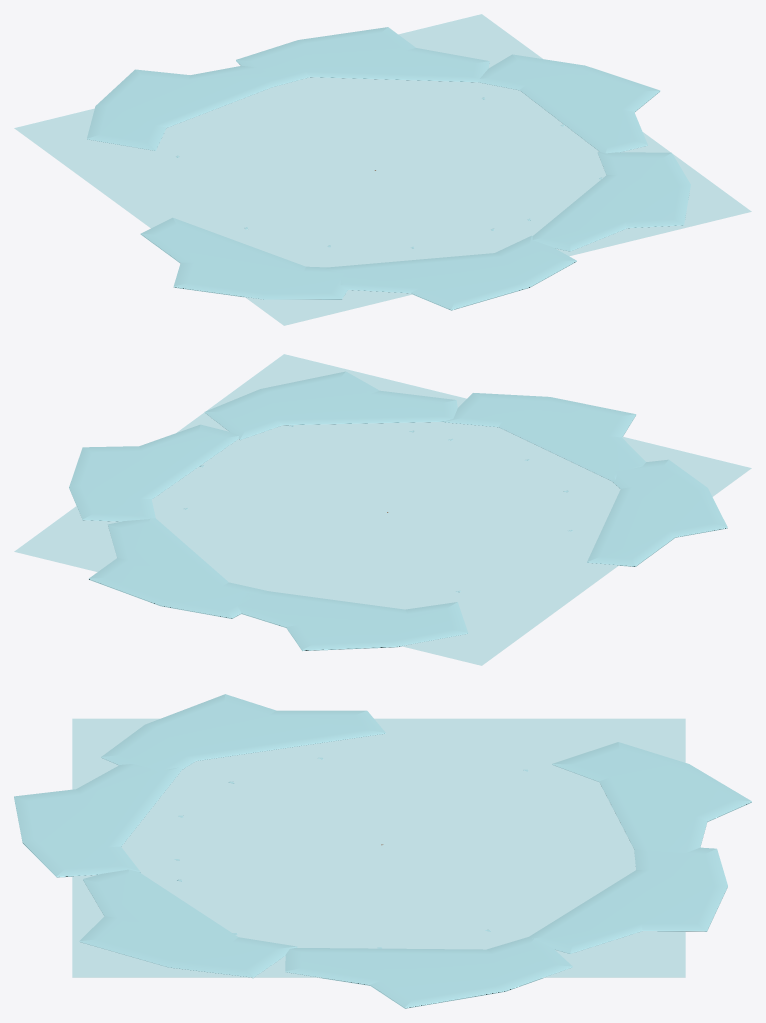
Rendered from New Space02.glb.
The picture shows the model from 3 angles, top to bottom: view 1: azimuth 30°, elevation 25°; view 2: azimuth 150°, elevation 25°; view 3: azimuth 270°, elevation 25°; orthographic projection. The views are drawn at different scales.
Visible parts, largest first — view 1: Quad, WaterBackSide, ice_floe_small_012__8_, ice_floe_small_012__7_, ice_floe_small_012__6_, ice_floe_small_012__5_, ice_floe_small_012__9_, ice_floe_small_012__10_; view 2: Quad, WaterBackSide, ice_floe_small_012__7_, ice_floe_small_012__8_, ice_floe_small_012__10_, ice_floe_small_012__6_, ice_floe_small_012__5_, ice_floe_small_012__9_; view 3: Quad, WaterBackSide, ice_floe_small_012__8_, ice_floe_small_012__7_, ice_floe_small_012__5_, ice_floe_small_012__6_, ice_floe_small_012__9_, ice_floe_small_012__10_.
Boxes of the visible parts, x1=… form: Quad: x1=14, y1=14, x2=751, y2=325; WaterBackSide: x1=15, y1=14, x2=750, y2=325; ice_floe_small_012__8_: x1=478, y1=54, x2=660, y2=153; ice_floe_small_012__7_: x1=532, y1=152, x2=690, y2=251; ice_floe_small_012__6_: x1=326, y1=235, x2=576, y2=310; ice_floe_small_012__5_: x1=140, y1=217, x2=347, y2=299; ice_floe_small_012__9_: x1=236, y1=27, x2=489, y2=87; ice_floe_small_012__10_: x1=87, y1=65, x2=277, y2=150; Quad: x1=14, y1=354, x2=751, y2=665; WaterBackSide: x1=15, y1=354, x2=750, y2=665; ice_floe_small_012__7_: x1=204, y1=371, x2=457, y2=439; ice_floe_small_012__8_: x1=69, y1=424, x2=238, y2=521; ice_floe_small_012__10_: x1=238, y1=591, x2=468, y2=651; ice_floe_small_012__6_: x1=444, y1=393, x2=645, y2=480; ice_floe_small_012__5_: x1=587, y1=459, x2=727, y2=566; ice_floe_small_012__9_: x1=88, y1=518, x2=268, y2=618; Quad: x1=72, y1=718, x2=685, y2=977; WaterBackSide: x1=72, y1=719, x2=685, y2=977; ice_floe_small_012__8_: x1=285, y1=937, x2=572, y2=1008; ice_floe_small_012__7_: x1=79, y1=869, x2=297, y2=978; ice_floe_small_012__5_: x1=101, y1=694, x2=385, y2=772; ice_floe_small_012__6_: x1=14, y1=764, x2=182, y2=877; ice_floe_small_012__9_: x1=529, y1=847, x2=727, y2=953; ice_floe_small_012__10_: x1=552, y1=742, x2=751, y2=852.
Size of what is drawn, in the model's own units: 12082 by 32.6 by 12021.
Materials: 5 (3 with a texture image).
